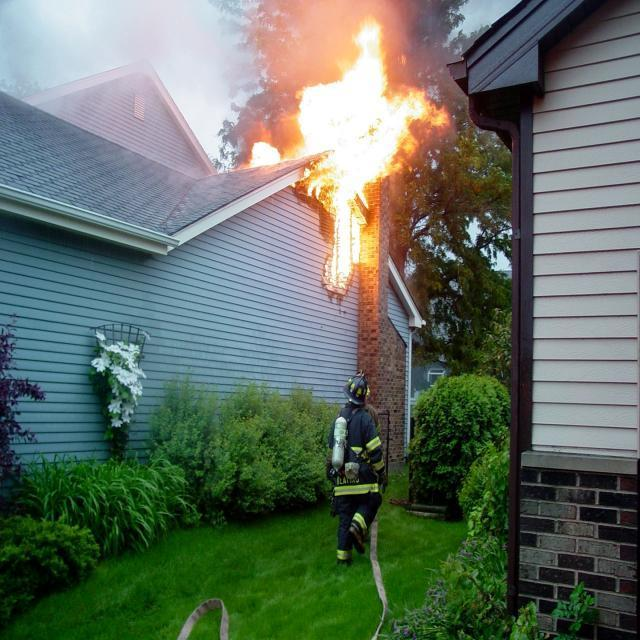Fire: (299, 16, 454, 303), (243, 133, 288, 167)
Smoke: (204, 0, 298, 123)
